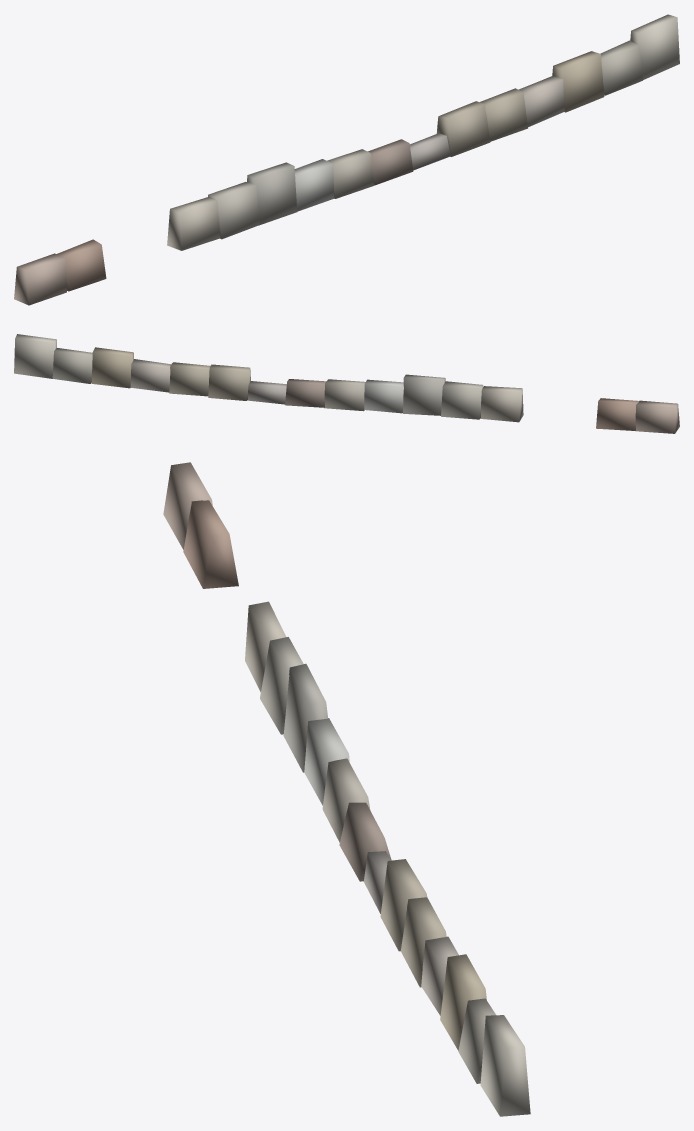
File: farm_3_0_far.glb
3 renders of one model, top to bottom at view 1: azimuth 30°, elevation 25°; view 2: azimuth 150°, elevation 25°; view 3: azimuth 270°, elevation 25°, orthographic. The views are drawn at different scales.
Visible parts, largest first — view 1: geometry_0; view 2: geometry_0; view 3: geometry_0.
Boxes of the visible parts, x1,y1,x2,y2 form: geometry_0: [14, 14, 679, 305]; geometry_0: [14, 334, 679, 433]; geometry_0: [163, 462, 530, 1116].
Size of the model in its own units: 25.75 by 1.94 by 7.06.
